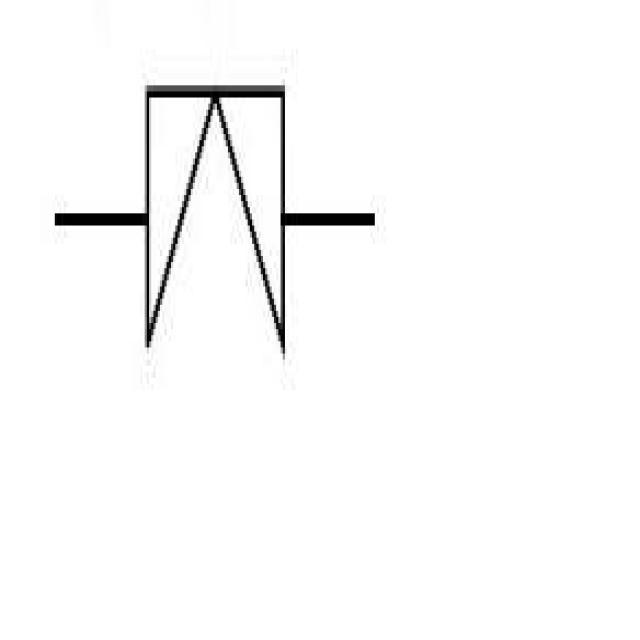Diaphragm Valve: (121, 25, 328, 420)
